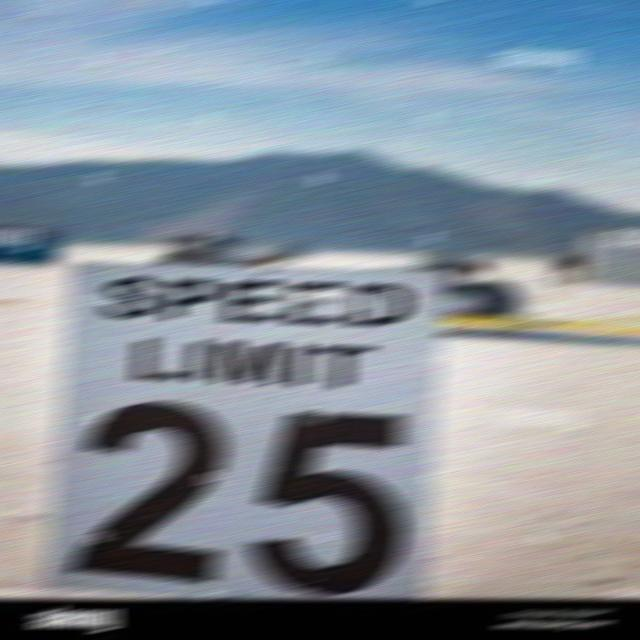speedLimit25: (47, 246, 438, 589)
